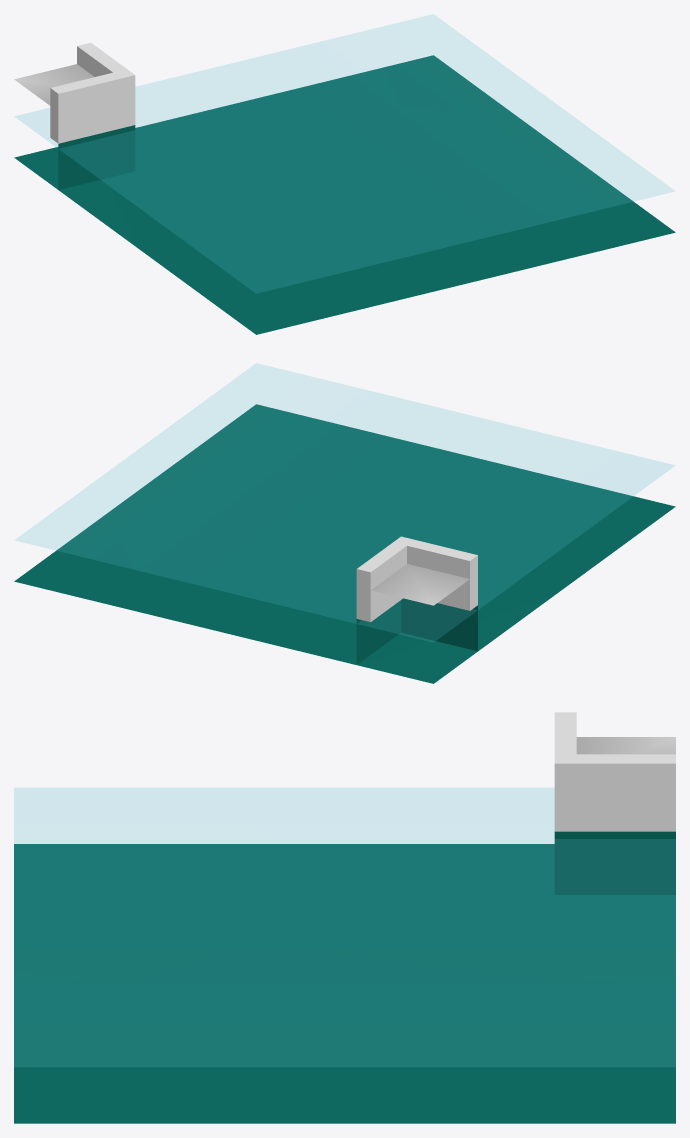
Rendered from Water_02.glb.
The picture shows the model from 3 angles, top to bottom: view 1: azimuth 30°, elevation 25°; view 2: azimuth 150°, elevation 25°; view 3: azimuth 270°, elevation 25°; orthographic projection. The views are drawn at different scales.
Parts seen in each view (by area): view 1: Water_02; view 2: Water_02; view 3: Water_02.
Boxes of the visible parts, left/top/right/bottom form: Water_02: left=14, top=14, right=675, bottom=334; Water_02: left=14, top=363, right=675, bottom=683; Water_02: left=14, top=712, right=675, bottom=1123.
Bounding box in the file's own units: 15 × 3.29 × 15.
2 materials, 2 textured.
